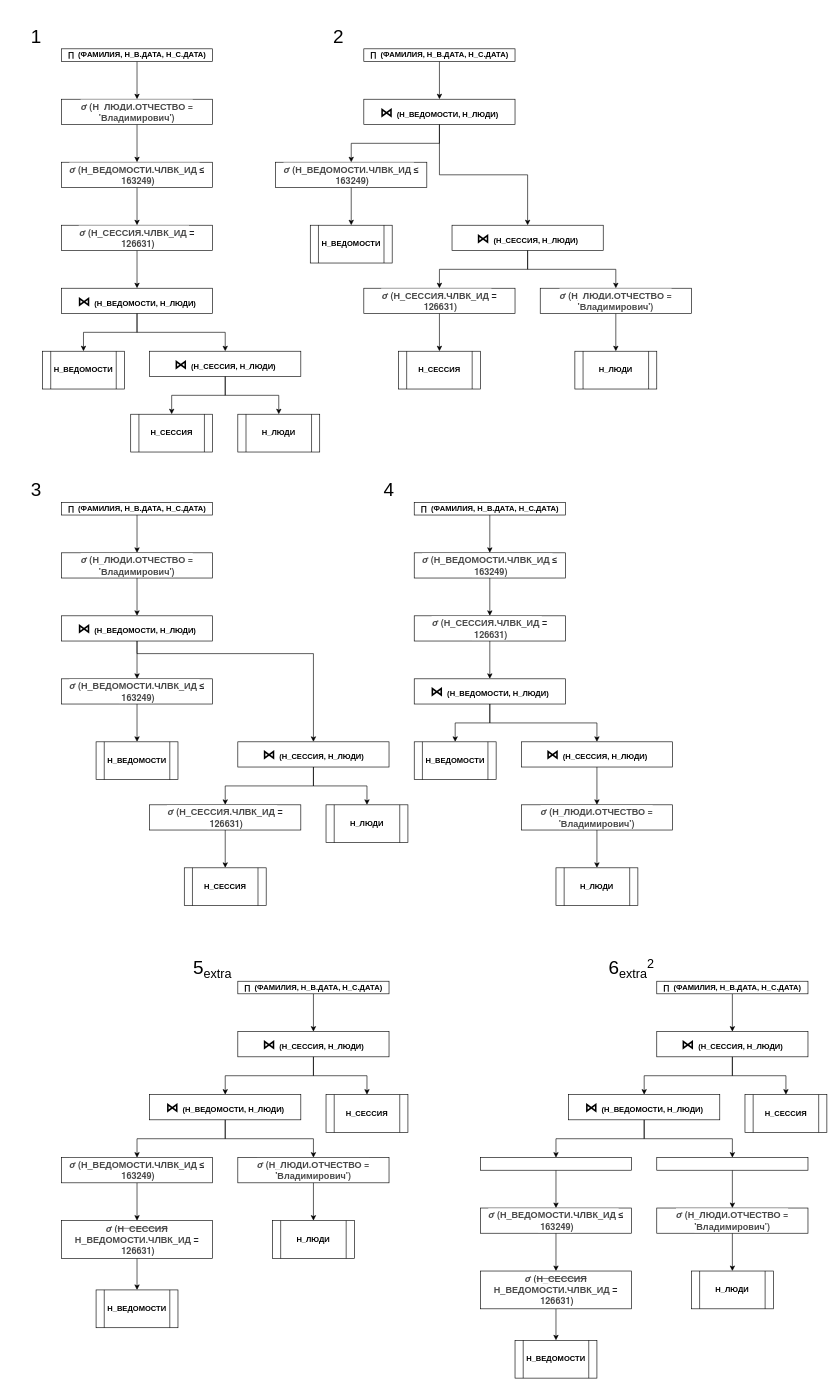
Some shapes in this 838 by 1389 pixel diagram are drawn without their labels. The box of each missing label's shape, as (x1, y1, x2, y2) in pixels:
∏ (ФАМИЛИЯ, ИД): (656, 1157, 808, 1170)
∏ (ЧЛВК_ИД, ДАТА): (480, 1157, 632, 1170)
